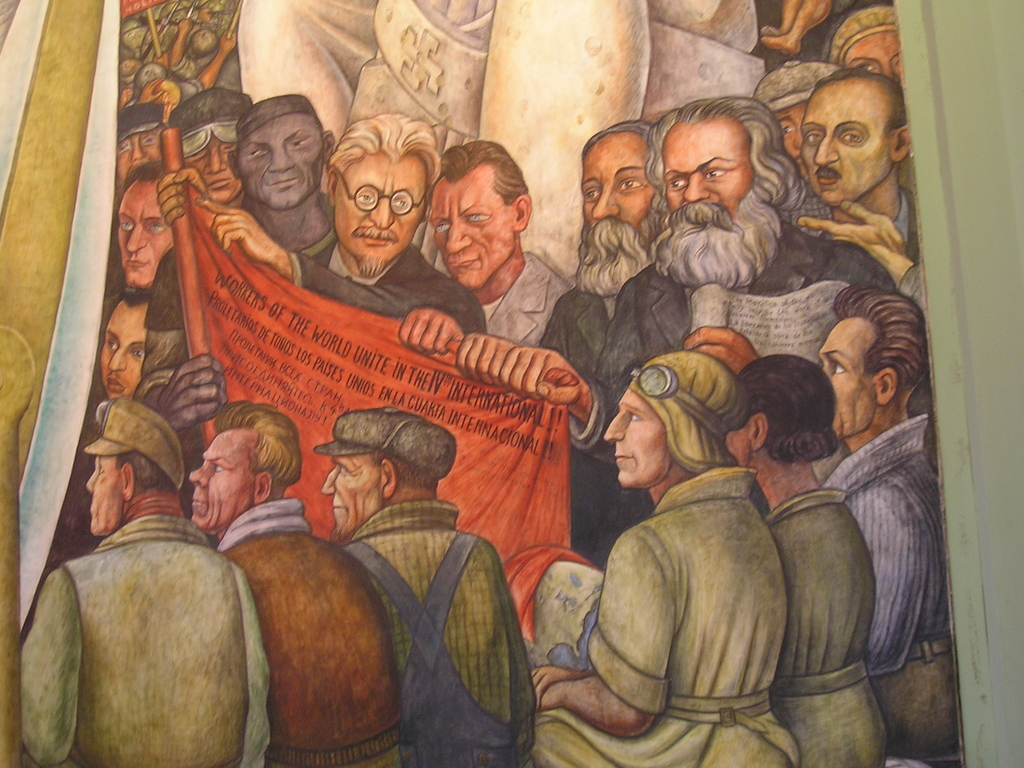face: (87, 441, 131, 527)
